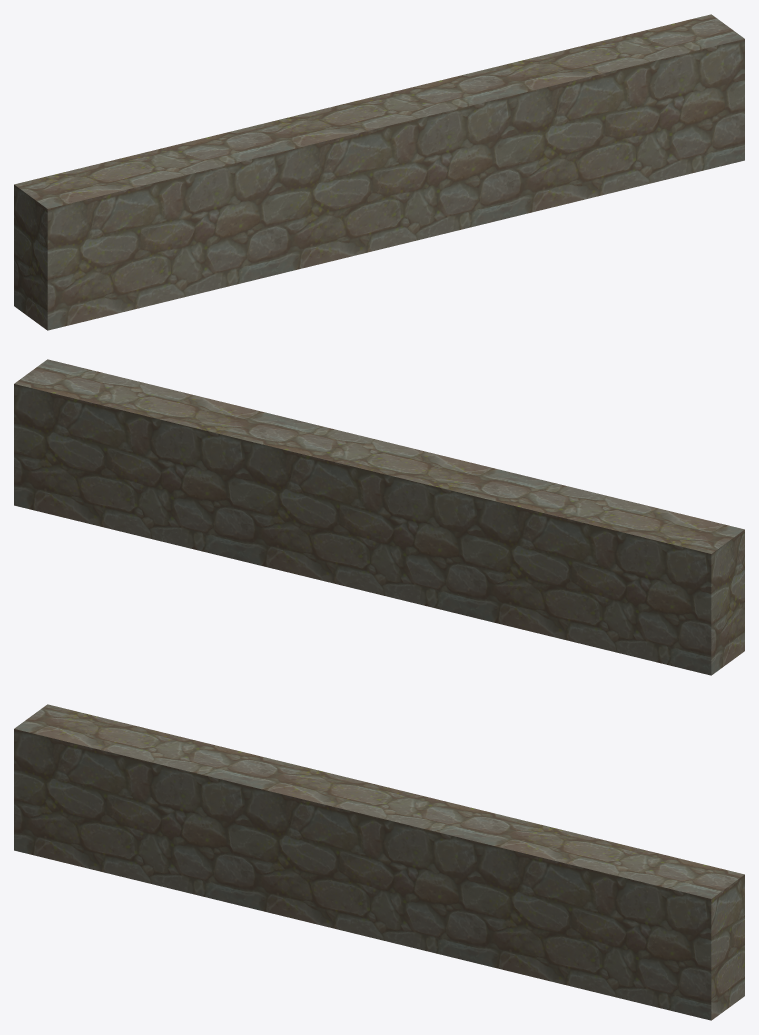
File: SM_FW01_Ruins_Int_Wall_A_6x1_01.fbx
3 views of the same model, one above another, from view 1: azimuth 30°, elevation 25°; view 2: azimuth 150°, elevation 25°; view 3: azimuth 330°, elevation 25° (orthographic).
Parts seen in each view (by area): view 1: SM_FW01_Ruins_Int_Wall_A_6x1_01; view 2: SM_FW01_Ruins_Int_Wall_A_6x1_01; view 3: SM_FW01_Ruins_Int_Wall_A_6x1_01.
Part boxes in pixels (bbox=[...]): SM_FW01_Ruins_Int_Wall_A_6x1_01: bbox=[14, 14, 744, 330]; SM_FW01_Ruins_Int_Wall_A_6x1_01: bbox=[14, 359, 744, 675]; SM_FW01_Ruins_Int_Wall_A_6x1_01: bbox=[14, 704, 744, 1020].
Bounding box in the file's own units: 6 × 1 × 0.5.
